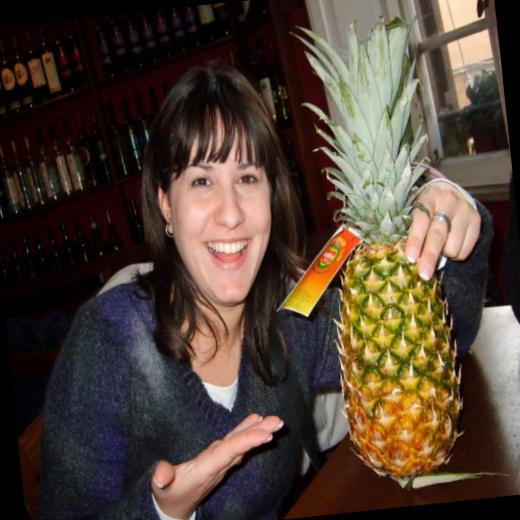Mango: (287, 4, 508, 499)
